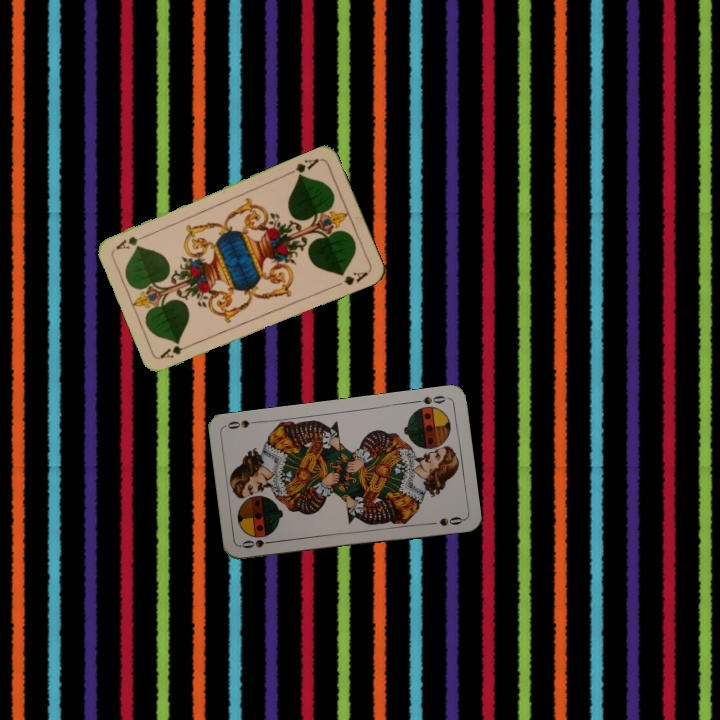GA: (284, 154, 321, 180), (156, 339, 195, 361)
SO: (410, 391, 450, 407), (238, 536, 278, 551)
